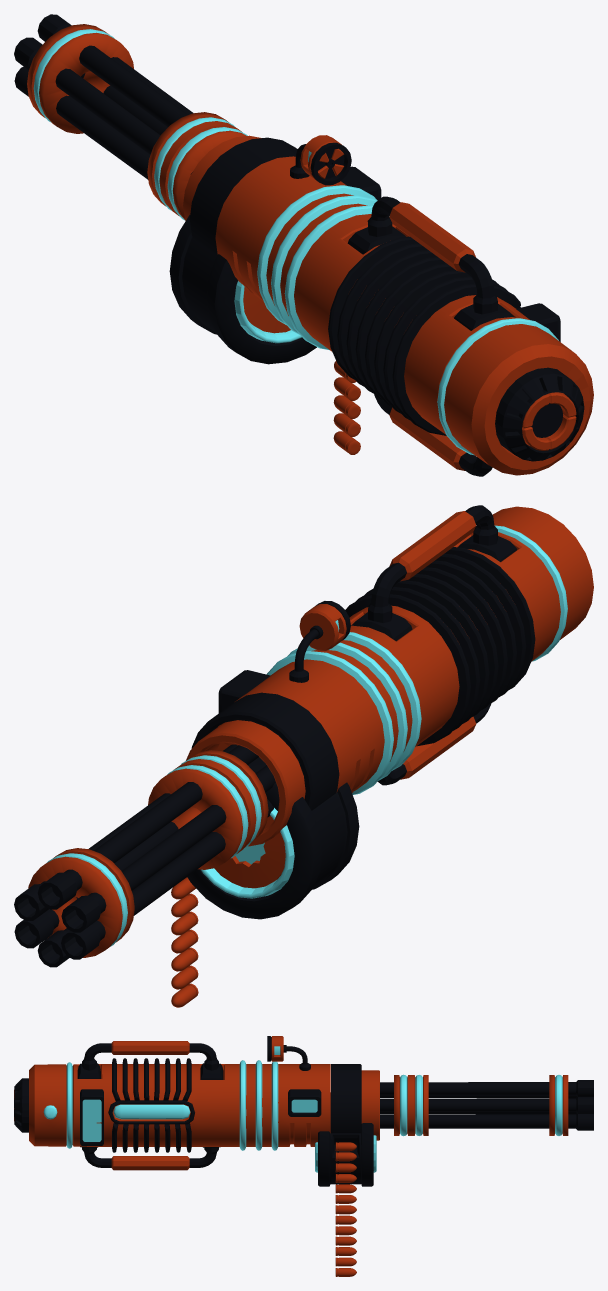
Rendered from MachineGunC01.fbx.
The picture shows the model from 3 angles, top to bottom: view 1: azimuth 30°, elevation 25°; view 2: azimuth 150°, elevation 25°; view 3: azimuth 270°, elevation 25°; orthographic projection. The views are drawn at different scales.
Parts seen in each view (by area): view 1: MachineGun03, Cylinder045, Cylinder051, MachineGun003, Cylinder047, Cylinder055, Cylinder048, Cylinder052, Cylinder046, Cylinder056, Bulets002, Cylinder050 (+5 smaller); view 2: MachineGun03, Cylinder045, Cylinder051, Cylinder047, MachineGun003, Cylinder048, Cylinder055, Cylinder046, Cylinder049, Cylinder052, Bulets002, Cylinder056 (+4 smaller); view 3: Cylinder045, MachineGun03, Cylinder051, MachineGun003, Bulets002, Cylinder047, Cylinder048, Cylinder055, Box003, Cylinder046, Cylinder049, Cylinder050 (+5 smaller).
Boxes of the visible parts, x1,y1,x2,y2 form: MachineGun03: (234,236,593,475); Cylinder045: (215,156,529,434); Cylinder051: (14,14,193,179); MachineGun003: (347,196,514,476); Cylinder047: (169,215,316,364); Cylinder055: (257,185,389,350); Cylinder048: (189,137,297,255); Cylinder052: (27,24,133,133); Cylinder046: (147,112,246,219); Cylinder056: (290,135,351,185); Bulets002: (333,361,360,454); Cylinder050: (154,117,247,220); MachineGun03: (201,506,593,898); Cylinder045: (218,532,560,792); Cylinder051: (14,744,275,967); Cylinder047: (187,757,359,919); MachineGun003: (351,505,516,785); Cylinder048: (191,692,339,810); Cylinder055: (266,632,421,794); Cylinder046: (148,750,268,869); Cylinder049: (186,720,305,846); Cylinder052: (28,848,134,957); Bulets002: (171,877,198,1007); Cylinder056: (289,601,350,682); Cylinder045: (72,1064,330,1146); MachineGun03: (14,1058,376,1172); Cylinder051: (380,1080,593,1130); MachineGun003: (77,1041,223,1170); Bulets002: (335,1142,356,1276); Cylinder047: (318,1092,373,1186); Cylinder048: (331,1064,361,1144); Cylinder055: (239,1060,278,1150); Box003: (80,1089,103,1145); Cylinder046: (394,1075,428,1135); Cylinder049: (361,1070,379,1140); Cylinder050: (400,1074,422,1136).
Size of the model in its own units: 55.02 by 122 by 296.
